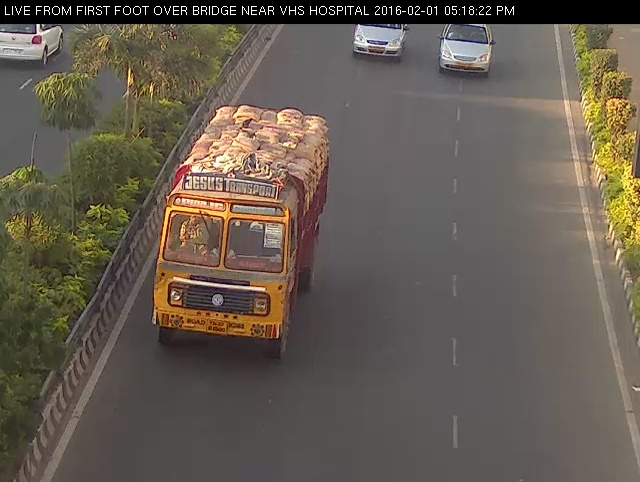Bus: (145, 92, 335, 371)
Car: (434, 20, 500, 83), (347, 19, 416, 66)
